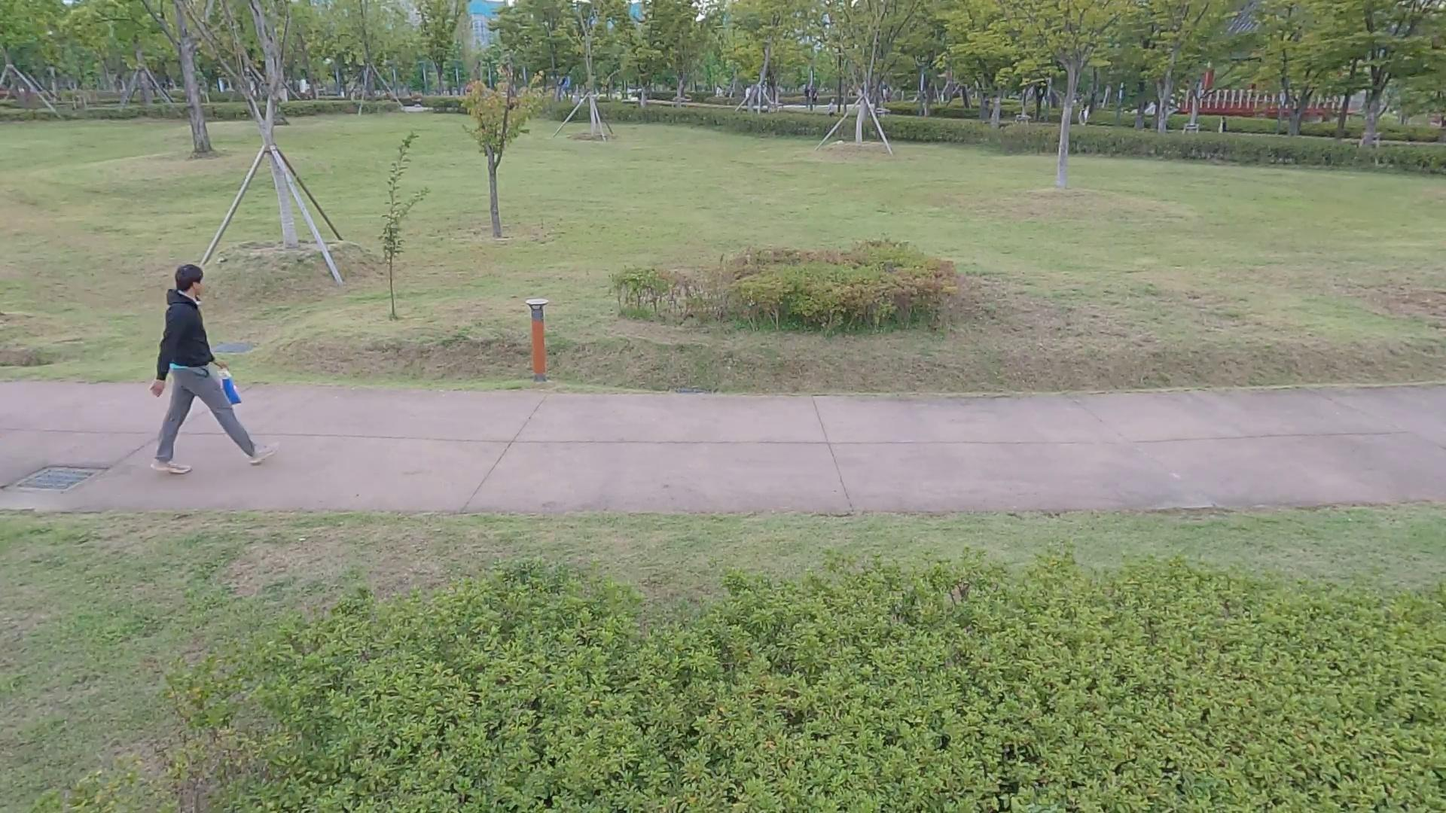person: (146, 262, 276, 478)
trash: (210, 362, 250, 410)
